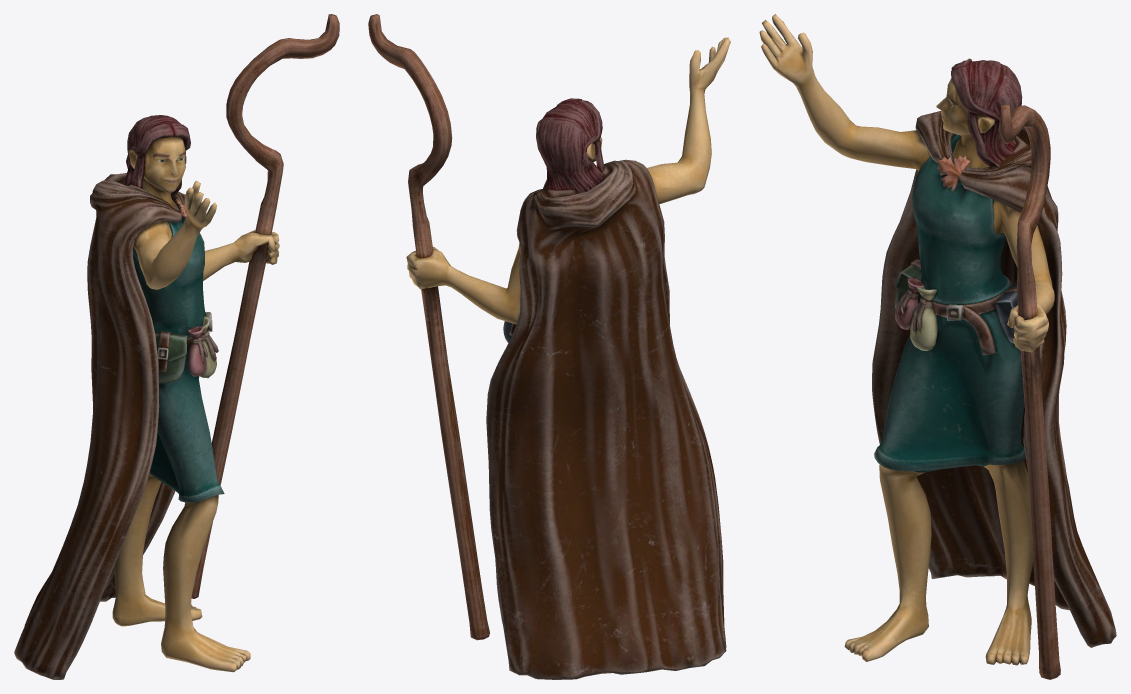
The model's file is MZ4250 - Druid Human Female 01.glb.
The picture shows the model from 3 angles, left to right: view 1: azimuth 30°, elevation 25°; view 2: azimuth 150°, elevation 25°; view 3: azimuth 270°, elevation 25°; orthographic projection. The views are drawn at different scales.
Parts seen in each view (by area): view 1: DruidFemale01; view 2: DruidFemale01; view 3: DruidFemale01.
Boxes of the visible parts, x1,y1,x2,y2 form: DruidFemale01: (14,14,339,679); DruidFemale01: (368,14,730,679); DruidFemale01: (759,14,1116,679).
Bounding box in the file's own units: 0.6697 × 1.1 × 0.5568.
Materials: 1 (1 with a texture image).
